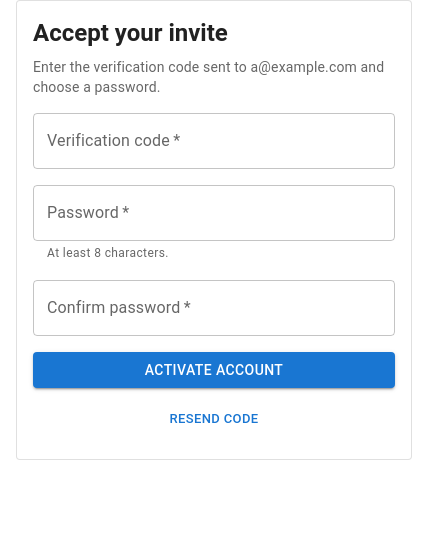
it: AcceptInvitePage › resends the code on request
Click the button "Resend code".
click(214, 420)  # box [33,404,395,435]
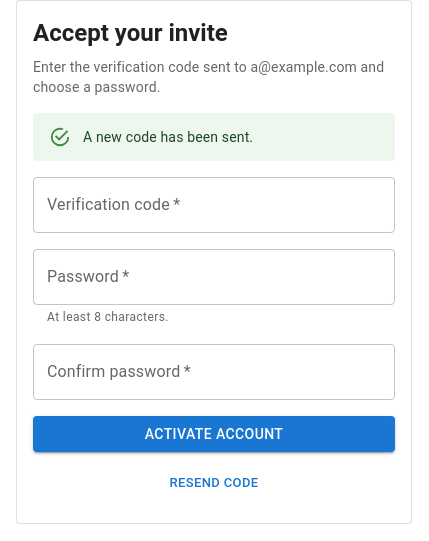
Now the text "A new code has been sent." is shown, box [83,129,253,145]
